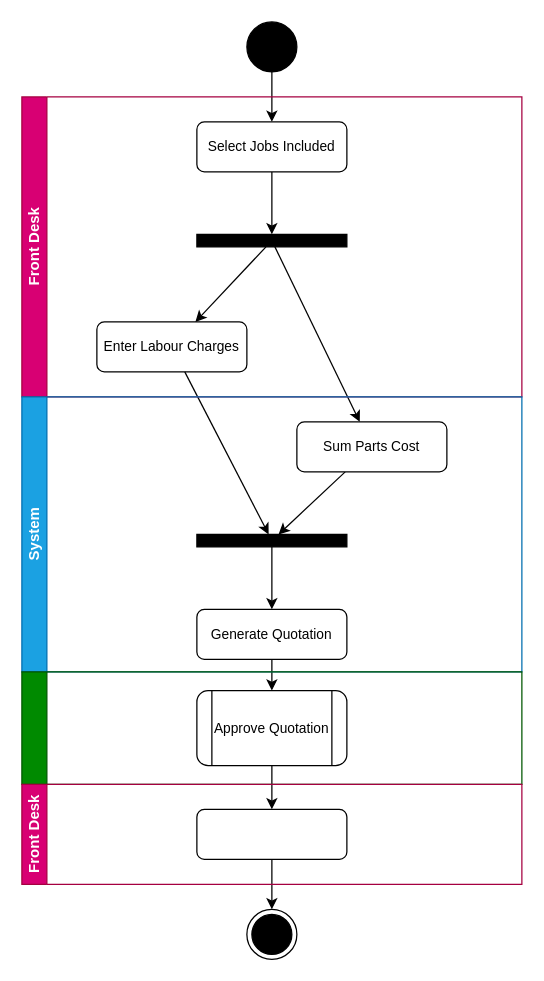
The diagram is 544 pixels wide and 981 high, and some of its shapes have lost their labels. Here are the shapes that lost their labels. From the top down, the box of each, then its label:
(21, 671, 522, 784): Customer
(196, 808, 347, 859): Convert to Invoice
